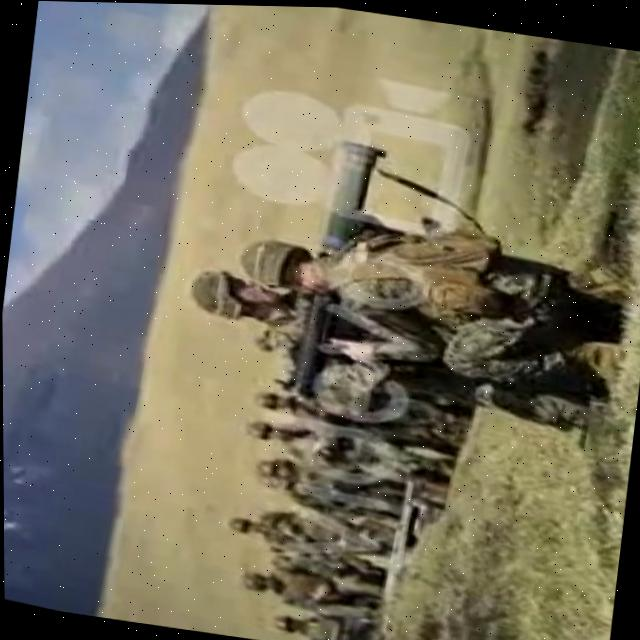rocket: (275, 133, 385, 406)
